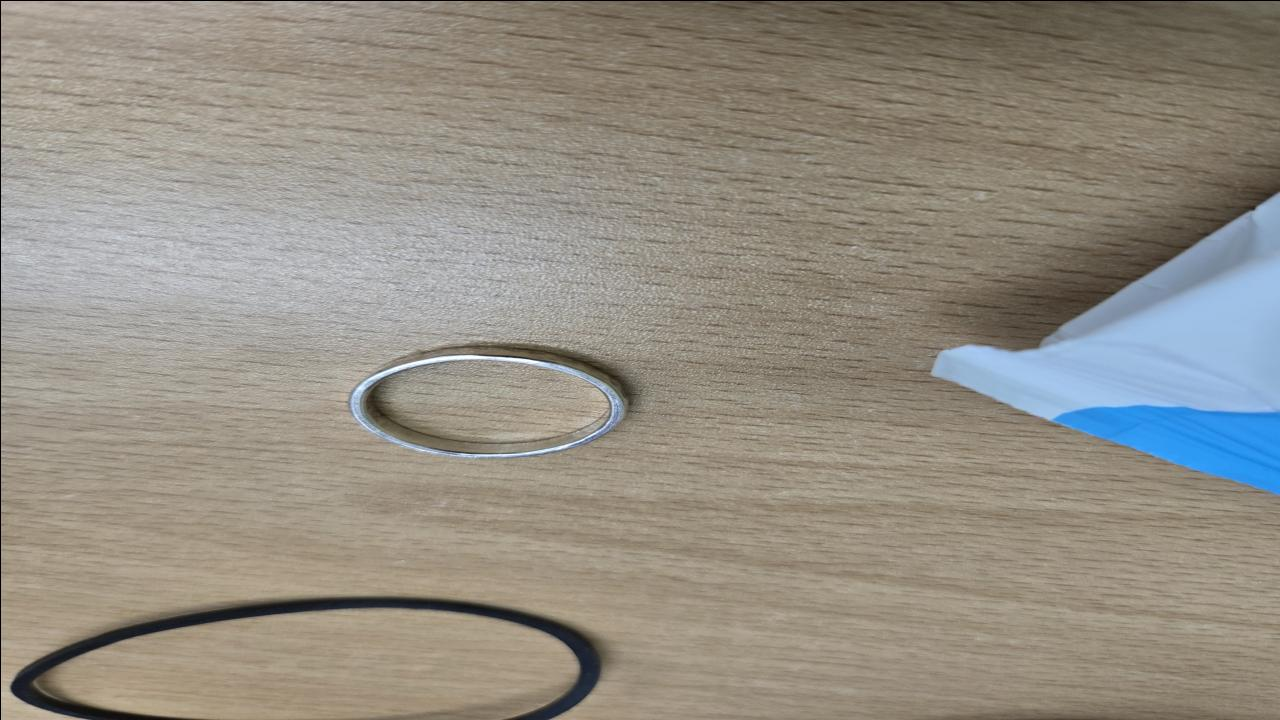ring: (346, 345, 634, 460)
